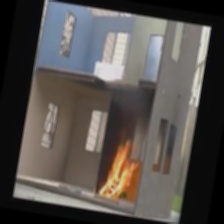fire: (95, 135, 141, 204)
